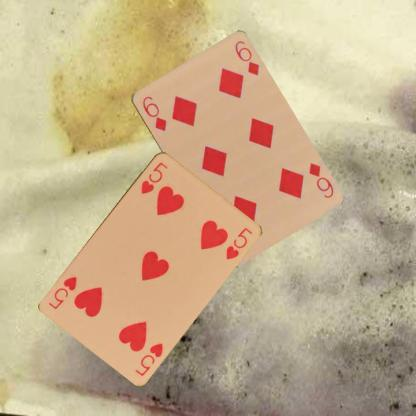5h: (132, 340, 164, 377), (138, 159, 168, 195)
6d: (306, 160, 336, 200), (139, 93, 168, 132)
